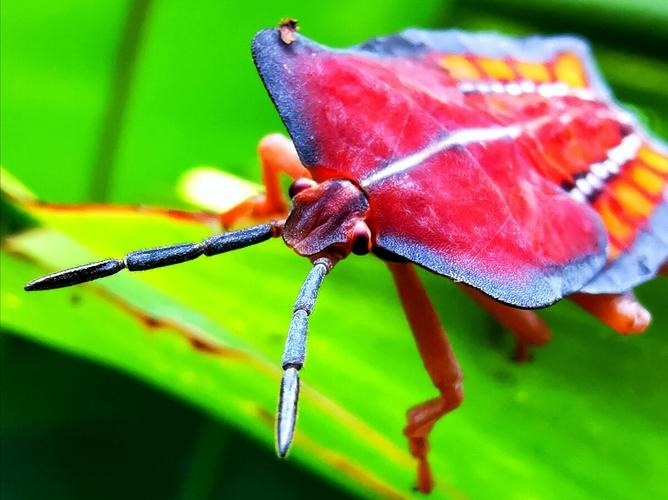Stink_Bug: (215, 45, 668, 381)
